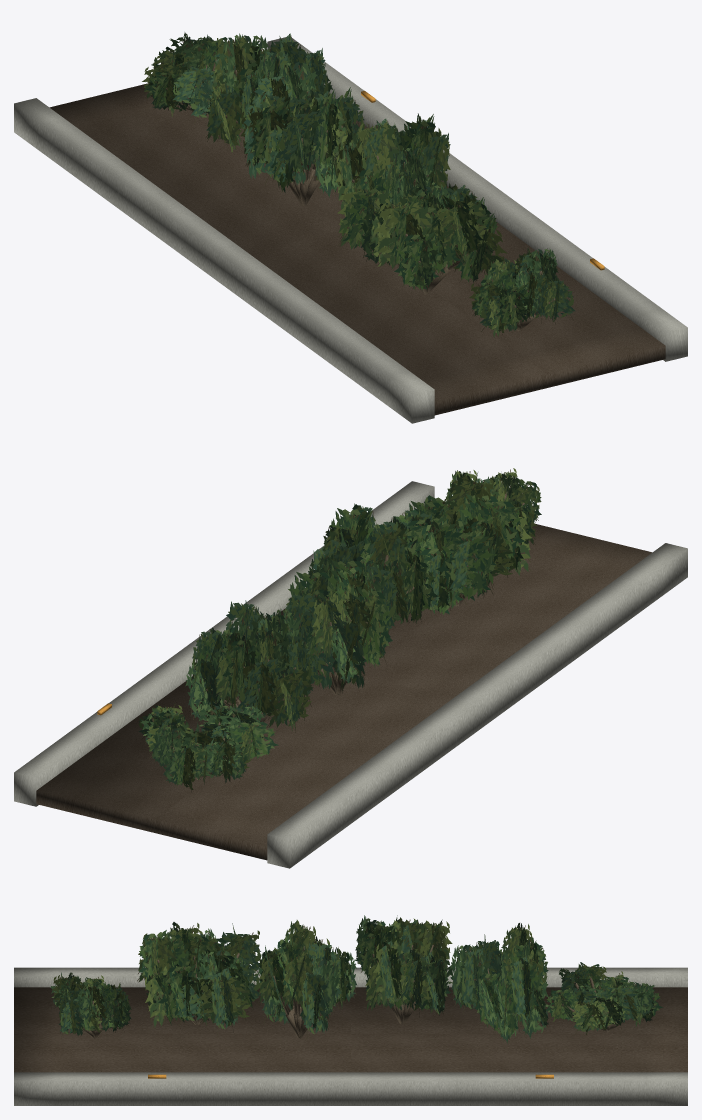
3 renders of one model, top to bottom at view 1: azimuth 30°, elevation 25°; view 2: azimuth 150°, elevation 25°; view 3: azimuth 270°, elevation 25°, orthographic. The views are drawn at different scales.
Parts seen in each view (by area): view 1: VIS_SOIL, VIS_CURB_LEFT, VIS_SHRUB_01_CANOPY, VIS_CURB_RIGHT, VIS_SHRUB_03_CANOPY, VIS_SHRUB_02_CANOPY, VIS_SHRUB_04_CANOPY, VIS_SHRUB_00_CANOPY, VIS_SHRUB_05_CANOPY, VIS_SHRUB_03_BRANCHES; view 2: VIS_SOIL, VIS_CURB_LEFT, VIS_SHRUB_01_CANOPY, VIS_SHRUB_04_CANOPY, VIS_SHRUB_03_CANOPY, VIS_CURB_RIGHT, VIS_SHRUB_05_CANOPY, VIS_SHRUB_02_CANOPY, VIS_SHRUB_00_CANOPY; view 3: VIS_SOIL, VIS_CURB_RIGHT, VIS_SHRUB_01_CANOPY, VIS_SHRUB_04_CANOPY, VIS_SHRUB_03_CANOPY, VIS_SHRUB_02_CANOPY, VIS_SHRUB_05_CANOPY, VIS_CURB_LEFT, VIS_SHRUB_00_CANOPY, VIS_SHRUB_02_BRANCHES, VIS_SHRUB_03_BRANCHES.
Part boxes in pixels (<box>): VIS_SOIL: <box>49,83,665,415</box>; VIS_CURB_LEFT: <box>14,98,434,423</box>; VIS_SHRUB_01_CANOPY: <box>337,183,507,290</box>; VIS_CURB_RIGHT: <box>267,37,687,361</box>; VIS_SHRUB_03_CANOPY: <box>240,74,364,197</box>; VIS_SHRUB_02_CANOPY: <box>335,113,450,210</box>; VIS_SHRUB_04_CANOPY: <box>205,33,333,152</box>; VIS_SHRUB_00_CANOPY: <box>469,247,575,337</box>; VIS_SHRUB_05_CANOPY: <box>142,32,227,123</box>; VIS_SHRUB_03_BRANCHES: <box>271,125,342,205</box>; VIS_SOIL: <box>36,502,652,860</box>; VIS_CURB_LEFT: <box>267,543,687,868</box>; VIS_SHRUB_01_CANOPY: <box>377,473,531,618</box>; VIS_SHRUB_04_CANOPY: <box>185,600,313,732</box>; VIS_SHRUB_03_CANOPY: <box>280,560,397,693</box>; VIS_CURB_RIGHT: <box>14,481,434,806</box>; VIS_SHRUB_05_CANOPY: <box>138,703,278,792</box>; VIS_SHRUB_02_CANOPY: <box>308,503,438,631</box>; VIS_SHRUB_00_CANOPY: <box>446,468,541,544</box>; VIS_SOIL: <box>14,987,687,1072</box>; VIS_CURB_RIGHT: <box>14,1072,687,1105</box>; VIS_SHRUB_01_CANOPY: <box>137,922,261,1036</box>; VIS_SHRUB_04_CANOPY: <box>450,923,548,1043</box>; VIS_SHRUB_03_CANOPY: <box>355,915,453,1021</box>; VIS_SHRUB_02_CANOPY: <box>258,920,356,1039</box>; VIS_SHRUB_05_CANOPY: <box>546,962,662,1034</box>; VIS_CURB_LEFT: <box>14,967,687,987</box>; VIS_SHRUB_00_CANOPY: <box>50,972,131,1038</box>; VIS_SHRUB_02_BRANCHES: <box>272,975,341,1038</box>; VIS_SHRUB_03_BRANCHES: <box>372,945,434,1024</box>.
Bounding box in the file's own units: 1.6 × 0.8654 × 4.
5 materials, 5 textured.
